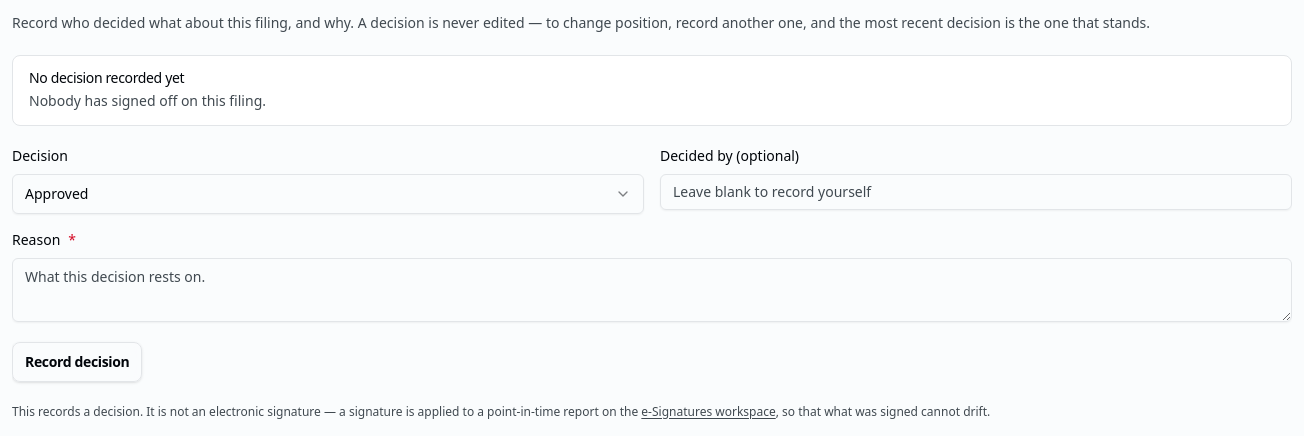
SubjectApprovalsBody › offers no decision the endpoint would refuse
The width and height of the screenshot is (1304, 436).
Expected: the heading "No decision recorded yet" is shown, x1=29 y1=68 x2=184 y2=87
Click the dropdown. click: click(57, 193)
box: x1=12 y1=174 x2=644 y2=214
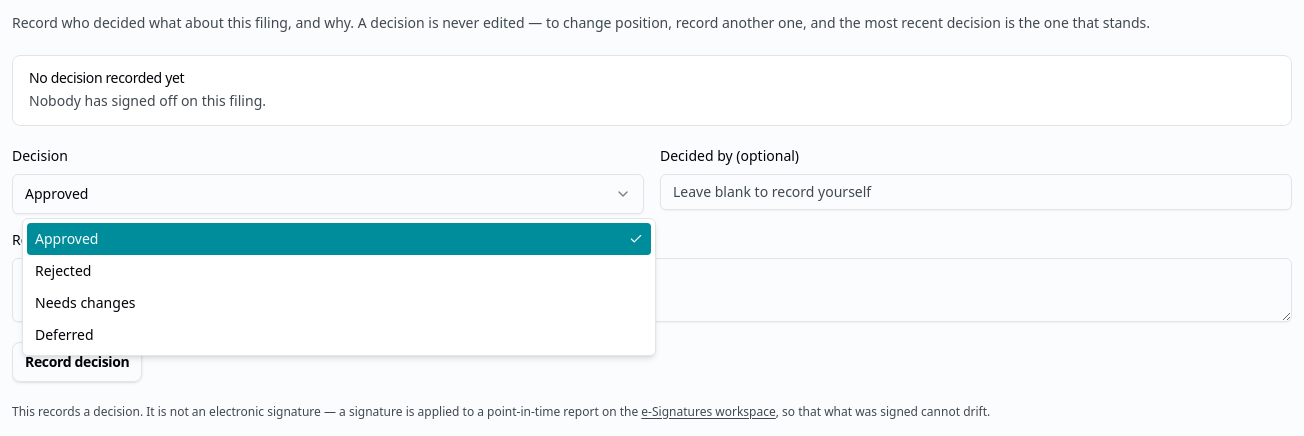
Now the option "Approved" is shown, box x1=27 y1=223 x2=651 y2=255
Now the option "Rejected" is shown, box x1=35 y1=261 x2=91 y2=280
Now the option "Needs changes" is shown, box x1=35 y1=293 x2=136 y2=312
